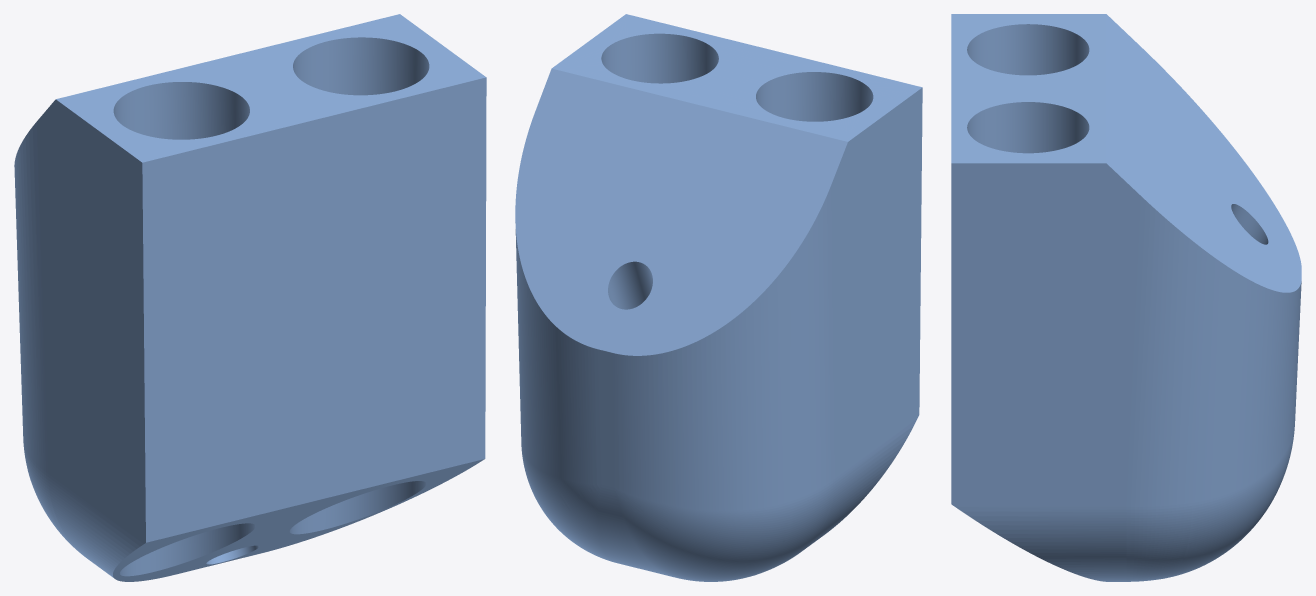
File: dedo_menique_3.dae
3 renders of one model, left to right at view 1: azimuth 30°, elevation 25°; view 2: azimuth 150°, elevation 25°; view 3: azimuth 270°, elevation 25°, orthographic. The views are drawn at different scales.
Visible parts, largest first — view 1: Fingerdesign-All-2.004; view 2: Fingerdesign-All-2.004; view 3: Fingerdesign-All-2.004.
Boxes of the visible parts, <box> form: Fingerdesign-All-2.004: <box>14,14,486,581</box>; Fingerdesign-All-2.004: <box>515,14,922,581</box>; Fingerdesign-All-2.004: <box>951,14,1301,581</box>.
Size of the model in its own units: 0.0122 by 0.012 by 0.0175.
